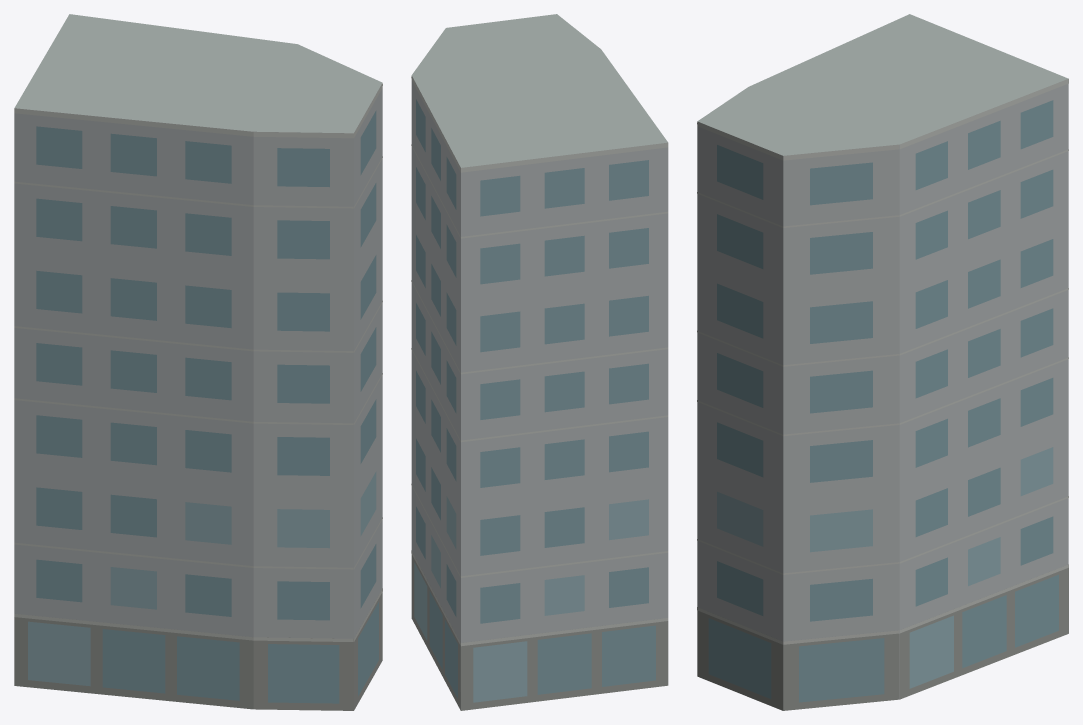
The model's file is survey-upis-33011631.glb.
The picture shows the model from 3 angles, left to right: view 1: azimuth 30°, elevation 25°; view 2: azimuth 150°, elevation 25°; view 3: azimuth 270°, elevation 25°; orthographic projection. The views are drawn at different scales.
Visible parts, largest first — view 1: survey-upis-33011631.tmp; view 2: survey-upis-33011631.tmp; view 3: survey-upis-33011631.tmp.
Boxes of the visible parts, x1=… form: survey-upis-33011631.tmp: x1=14, y1=14, x2=382, y2=710; survey-upis-33011631.tmp: x1=411, y1=14, x2=668, y2=710; survey-upis-33011631.tmp: x1=697, y1=14, x2=1068, y2=710.
Size of the model in its own units: 15.26 by 27.8 by 16.88.
